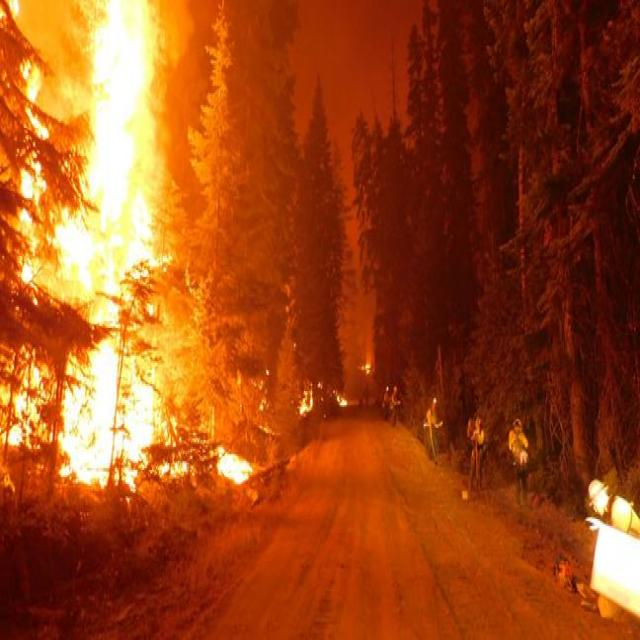Fire: (48, 0, 209, 482), (80, 0, 150, 200)
